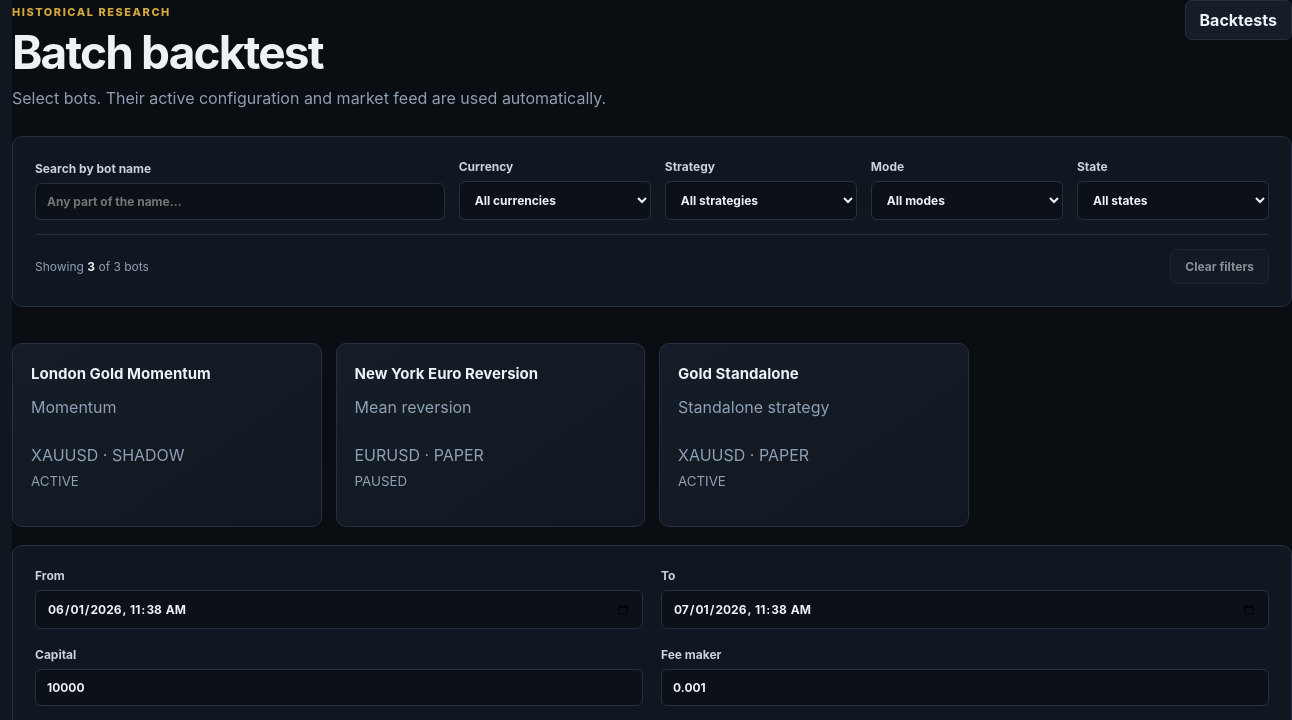
BatchBacktestPage filters › searches by any case-insensitive part of the bot name
Expected: the text "London Gold Momentum" is shown, [31,364,211,383]
Type "GOLD M" into the search field labelled "Search by bot name" at {"x": 240, "y": 202}, box [35,183,445,220]
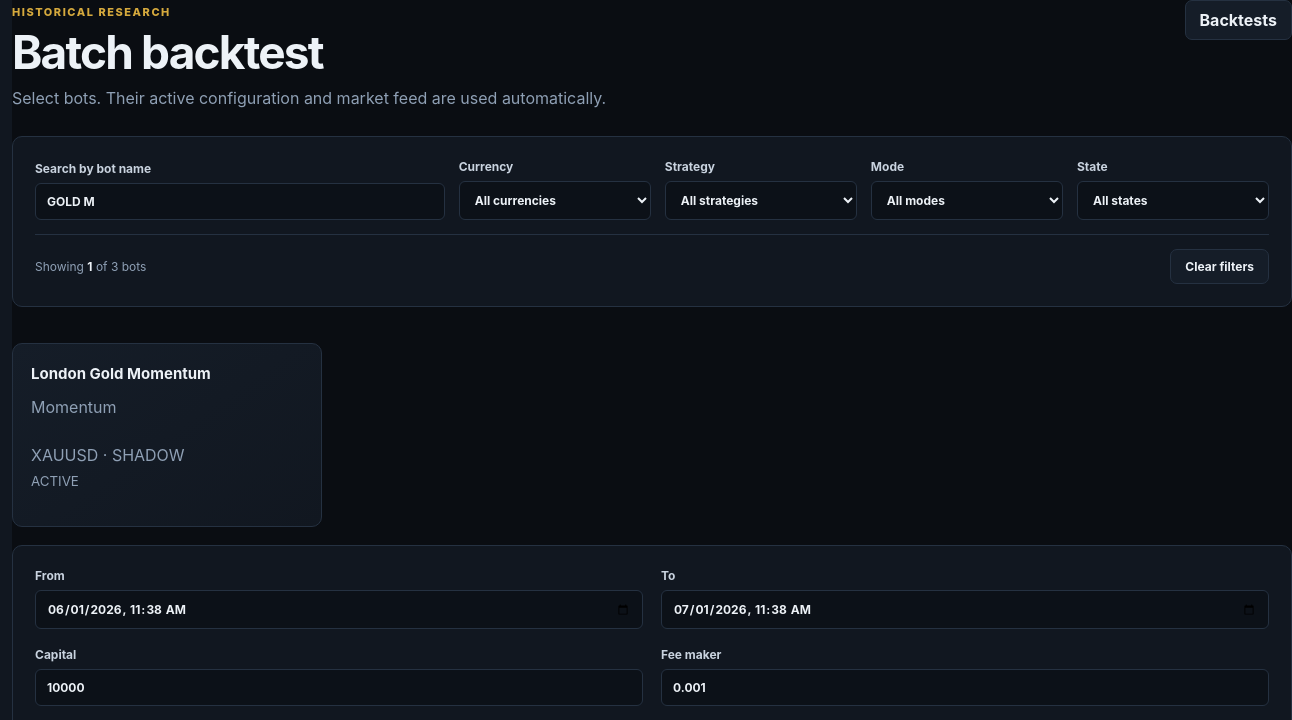
Result: the button "New York Euro Reversion" is gone
Result: the button "Gold Standalone" is gone
Result: the element with test id "bot-filter-count" reads "Showing 1 of 3 bots" at [35,259,146,274]
